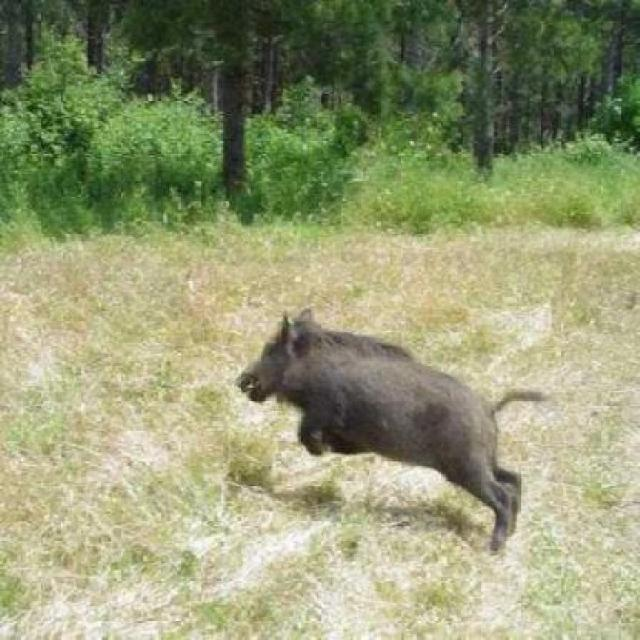Boar: (226, 288, 554, 575)
